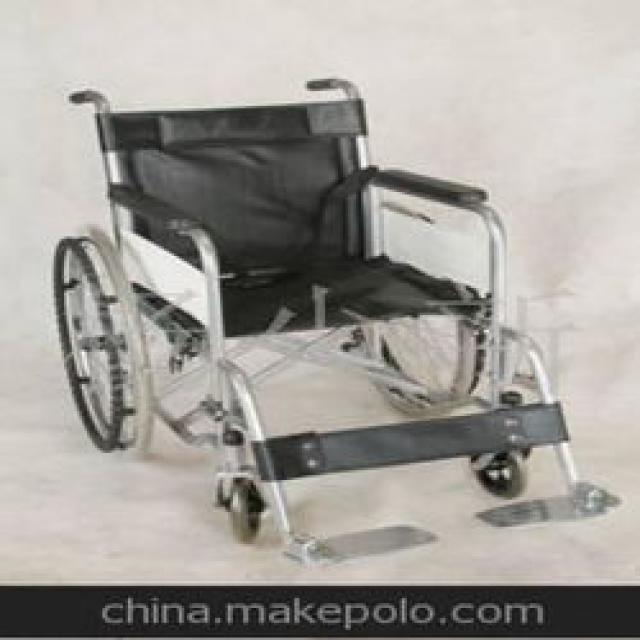wheelchair: (38, 74, 638, 564)
